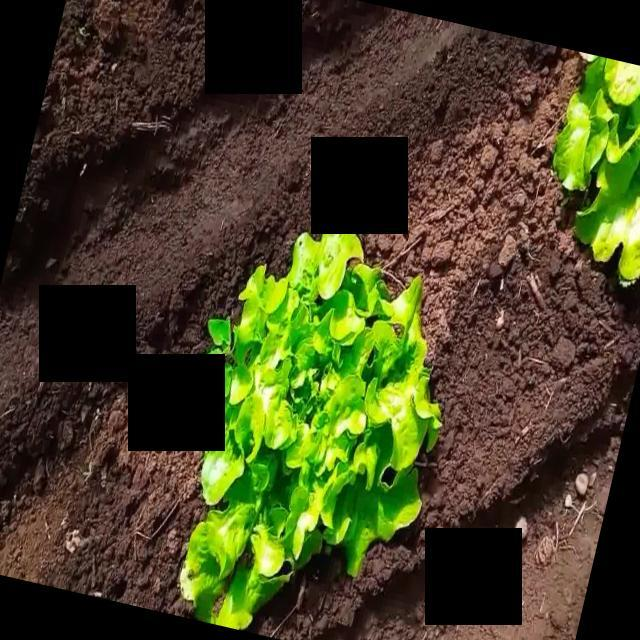Lettuce: (181, 233, 436, 630), (552, 45, 640, 300)
